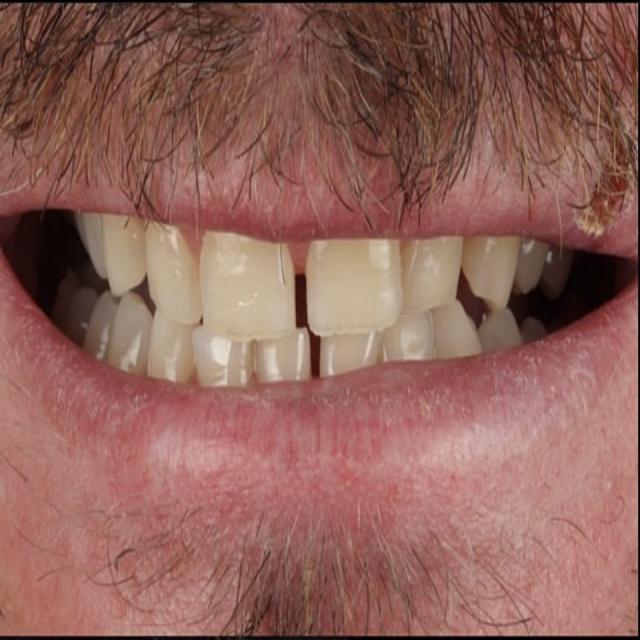tooth: (198, 230, 299, 340), (301, 239, 404, 336), (141, 219, 202, 327), (196, 336, 249, 402), (409, 242, 459, 306), (112, 299, 151, 376), (467, 248, 516, 308), (429, 310, 484, 362), (153, 318, 194, 386), (254, 337, 310, 383), (105, 226, 144, 283), (322, 338, 371, 375), (391, 322, 431, 359), (490, 318, 517, 342)
